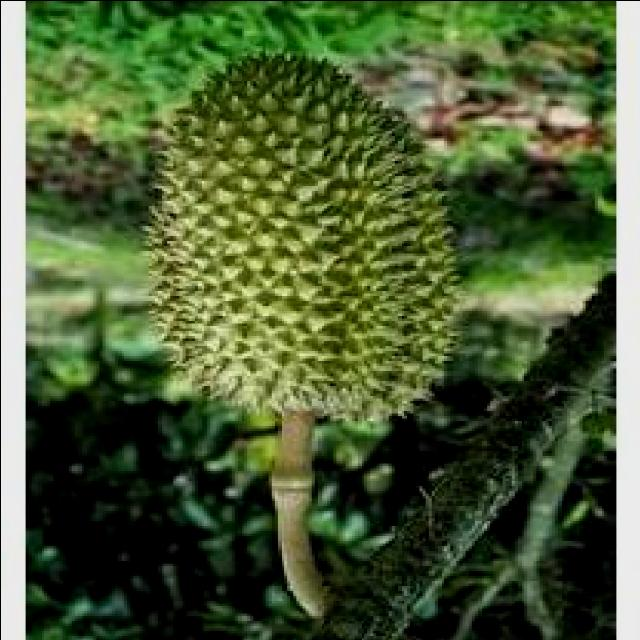non_orange: (92, 28, 483, 452)
